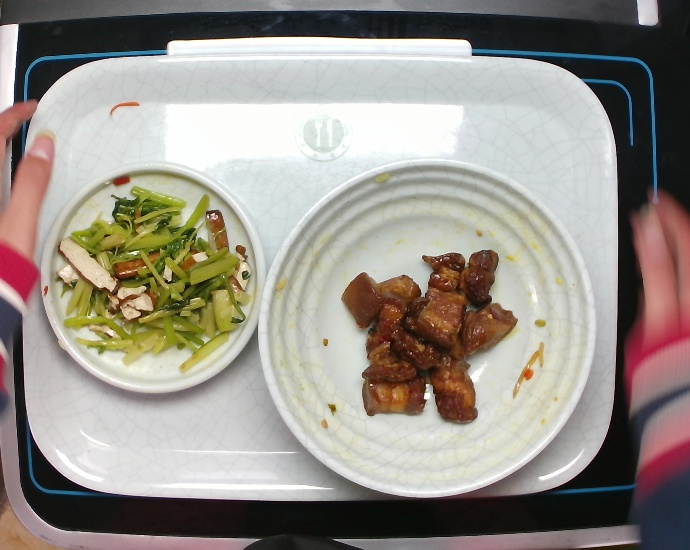JYsf-Da_Tang_Wan: (258, 153, 601, 504)
JYsf-Xiao_Yuan_Pan: (37, 158, 272, 394)
